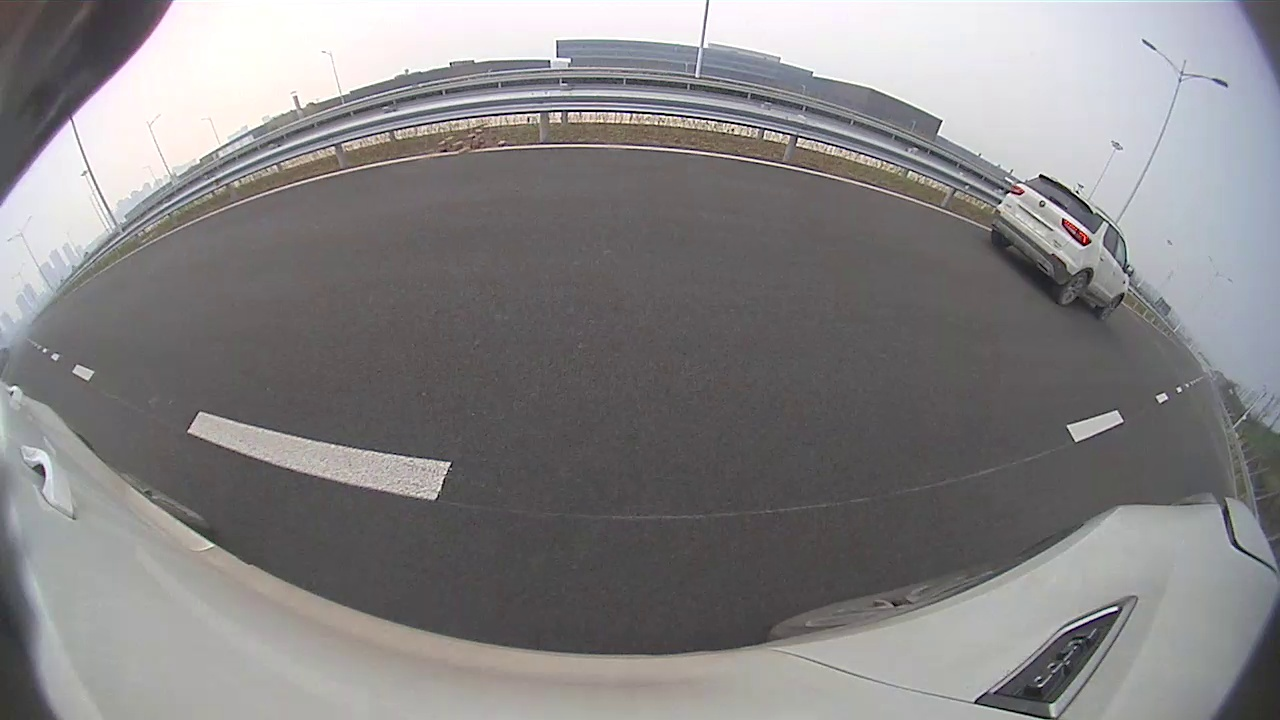car: (989, 174, 1133, 322)
front: (1096, 291, 1125, 326)
rear: (1058, 269, 1091, 309)
